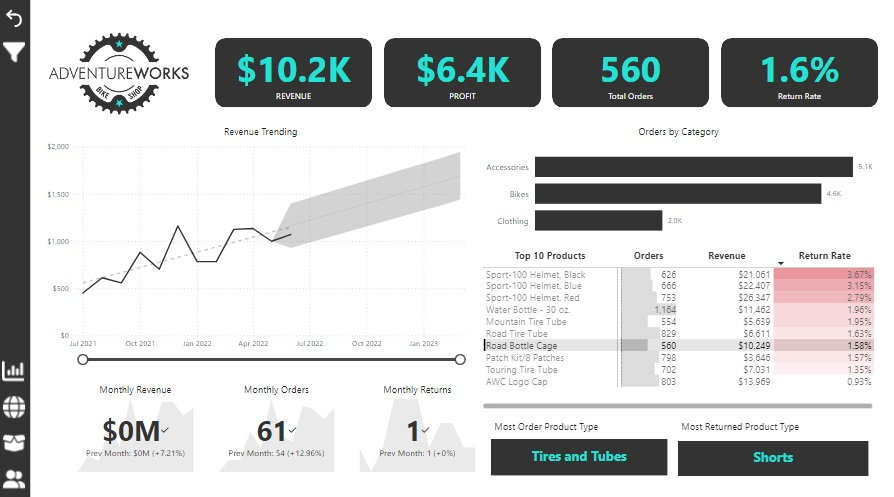

The dashboard page shown, as its layout file describes it:
{"tool":"powerbi","page":{"name":"Executive Dashboard","canvas":[1280,720],"ordinal":0},"visuals":[{"type":"image","title":"AW Logo","box":[44.6,0,254.9,213.1],"z":0},{"type":"card","fields":{"Values":["Measure Table.Total Revenue"]},"box":[308.2,31.7,224.6,148.3],"z":0,"group":"g2"},{"type":"group","id":"g1","title":"KPI Background","box":[308.2,56.2,947.5,99.4],"z":0,"group":"g3"},{"type":"shape","box":[308.2,56.2,224.6,99.4],"z":0,"group":"g1"},{"type":"actionButton","box":[0,511.2,44.6,40.3],"z":0,"group":"g4"},{"type":"group","id":"g2","title":"KPI Values","box":[308.2,31.7,947.5,148.3],"z":1000,"group":"g3"},{"type":"card","fields":{"Values":["Measure Table.Total Profit"]},"box":[549.2,31.7,224.6,148.3],"z":1000,"group":"g2"},{"type":"shape","box":[549.2,56.2,224.6,99.4],"z":1000,"group":"g1"},{"type":"actionButton","box":[1235.3,179.9,44.6,40.3],"z":1000},{"type":"actionButton","box":[1.4,563,44.6,40.3],"z":1000,"group":"g4"},{"type":"card","fields":{"Values":["Measure Table.Total Orders"]},"box":[790.1,31.7,224.6,148.3],"z":2000,"group":"g2"},{"type":"shape","box":[790.1,56.2,224.6,99.4],"z":2000,"group":"g1"},{"type":"actionButton","box":[8.6,475.1,44.6,40.3],"z":2000},{"type":"actionButton","box":[1.4,613.4,44.6,40.3],"z":2000,"group":"g4"},{"type":"card","fields":{"Values":["Measure Table.Return Rate"]},"box":[1031.1,31.7,224.6,148.3],"z":3000,"group":"g2"},{"type":"shape","box":[1031.1,56.2,224.6,99.4],"z":3000,"group":"g1"},{"type":"actionButton","box":[1226.8,221.8,44.6,40.3],"z":3000},{"type":"actionButton","box":[1.4,665.3,44.6,40.3],"z":3000,"group":"g4"},{"type":"actionButton","box":[10,496.7,44.6,40.3],"z":4000},{"type":"actionButton","box":[1226.8,272.2,44.6,40.3],"z":5000},{"type":"actionButton","box":[0,517,44.6,40.3],"z":6000},{"type":"actionButton","box":[1226.8,324,44.6,40.3],"z":7000},{"type":"shape","title":"Left Nav Background","box":[0,0,45,720],"z":8000},{"type":"group","id":"g3","title":"KPIs","box":[308.2,31.7,947.5,148.3],"z":9000},{"type":"lineChart","title":"Revenue Trending","fields":{"Y":["Measure Table.Total Revenue"],"Category":["Calendar Lookup.Year","Calendar Lookup.Start of Quarter","Calendar Lookup.Start of Month"]},"box":[63.4,180,622.1,345.6],"z":10000},{"type":"kpi","title":"Monthly Revenue","fields":{"Indicator":["Measure Table.Total Revenue"],"TrendLine":["Calendar Lookup.Start of Month"],"Goal":["Measure Table.Previous Month Revenue"]},"box":[106.6,548.6,175.7,132.5],"z":11000},{"type":"kpi","title":"Monthly Orders","fields":{"TrendLine":["Calendar Lookup.Start of Month"],"Indicator":["Measure Table.Total Orders"],"Goal":["Measure Table.Previous Month Orders"]},"box":[308.2,548.6,175.7,132.5],"z":12000},{"type":"kpi","title":"Monthly Returns","fields":{"TrendLine":["Calendar Lookup.Start of Month"],"Indicator":["Measure Table.Total Returns"],"Goal":["Measure Table.Previous Month Returns"]},"box":[509.8,548.6,175.7,132.5],"z":13000},{"type":"clusteredBarChart","title":"Orders by Category","fields":{"Y":["Measure Table.Total Orders"],"Category":["Product Categories Lookup.CategoryName"]},"box":[685.4,180,570.2,172.8],"z":14000},{"type":"pivotTable","fields":{"Rows":["Product Lookup.ProductName"],"Values":["Measure Table.Total Orders","Measure Table.Total Revenue","Measure Table.Return Rate"]},"box":[685.4,352.8,570.2,237.6],"z":15000},{"type":"card","fields":{"Values":["Min(Product Subcategories Lookup.SubcategoryName)"]},"box":[702.7,629.3,252,51.8],"z":16000},{"type":"textbox","box":[702.2,597.5,169.9,31.8],"z":17000},{"type":"card","fields":{"Values":["Min(Product Subcategories Lookup.SubcategoryName)"]},"box":[970.6,630.7,272.2,50.4],"z":18000},{"type":"textbox","box":[970.6,597.6,200.2,31.7],"z":19000},{"type":"actionButton","box":[4.3,10.1,44.6,34.6],"z":20000},{"type":"group","id":"g4","title":"Navigation Buttons","box":[0,511.2,46.1,194.4],"z":21000},{"type":"actionButton","box":[1.4,56.2,44.6,40.3],"z":22000}]}

Visuals, with their boxes on the page's 1280x720 design canvas (x1, y1, x2, y2). These are canvas units, not pixel positions in the 894x497 screenshot, which may show the page scaled, cropped or inside an application window:
"AW Logo" image: region(45, 0, 300, 213)
card - Measure Table.Total Revenue: region(308, 32, 533, 180)
"KPI Background" group: region(308, 56, 1256, 156)
shape: region(308, 56, 533, 156)
actionButton: region(0, 511, 45, 552)
"KPI Values" group: region(308, 32, 1256, 180)
card - Measure Table.Total Profit: region(549, 32, 774, 180)
shape: region(549, 56, 774, 156)
actionButton: region(1235, 180, 1280, 220)
actionButton: region(1, 563, 46, 603)
card - Measure Table.Total Orders: region(790, 32, 1015, 180)
shape: region(790, 56, 1015, 156)
actionButton: region(9, 475, 53, 515)
actionButton: region(1, 613, 46, 654)
card - Measure Table.Return Rate: region(1031, 32, 1256, 180)
shape: region(1031, 56, 1256, 156)
actionButton: region(1227, 222, 1271, 262)
actionButton: region(1, 665, 46, 706)
actionButton: region(10, 497, 55, 537)
actionButton: region(1227, 272, 1271, 312)
actionButton: region(0, 517, 45, 557)
actionButton: region(1227, 324, 1271, 364)
"Left Nav Background" shape: region(0, 0, 45, 720)
"KPIs" group: region(308, 32, 1256, 180)
"Revenue Trending" lineChart: region(63, 180, 686, 526)
"Monthly Revenue" kpi: region(107, 549, 282, 681)
"Monthly Orders" kpi: region(308, 549, 484, 681)
"Monthly Returns" kpi: region(510, 549, 686, 681)
"Orders by Category" clusteredBarChart: region(685, 180, 1256, 353)
pivotTable - Product Lookup.ProductName x Measure Table.Total Orders: region(685, 353, 1256, 590)
card - Min(Product Subcategories Lookup.SubcategoryName): region(703, 629, 955, 681)
textbox: region(702, 598, 872, 629)
card - Min(Product Subcategories Lookup.SubcategoryName): region(971, 631, 1243, 681)
textbox: region(971, 598, 1171, 629)
actionButton: region(4, 10, 49, 45)
"Navigation Buttons" group: region(0, 511, 46, 706)
actionButton: region(1, 56, 46, 96)
